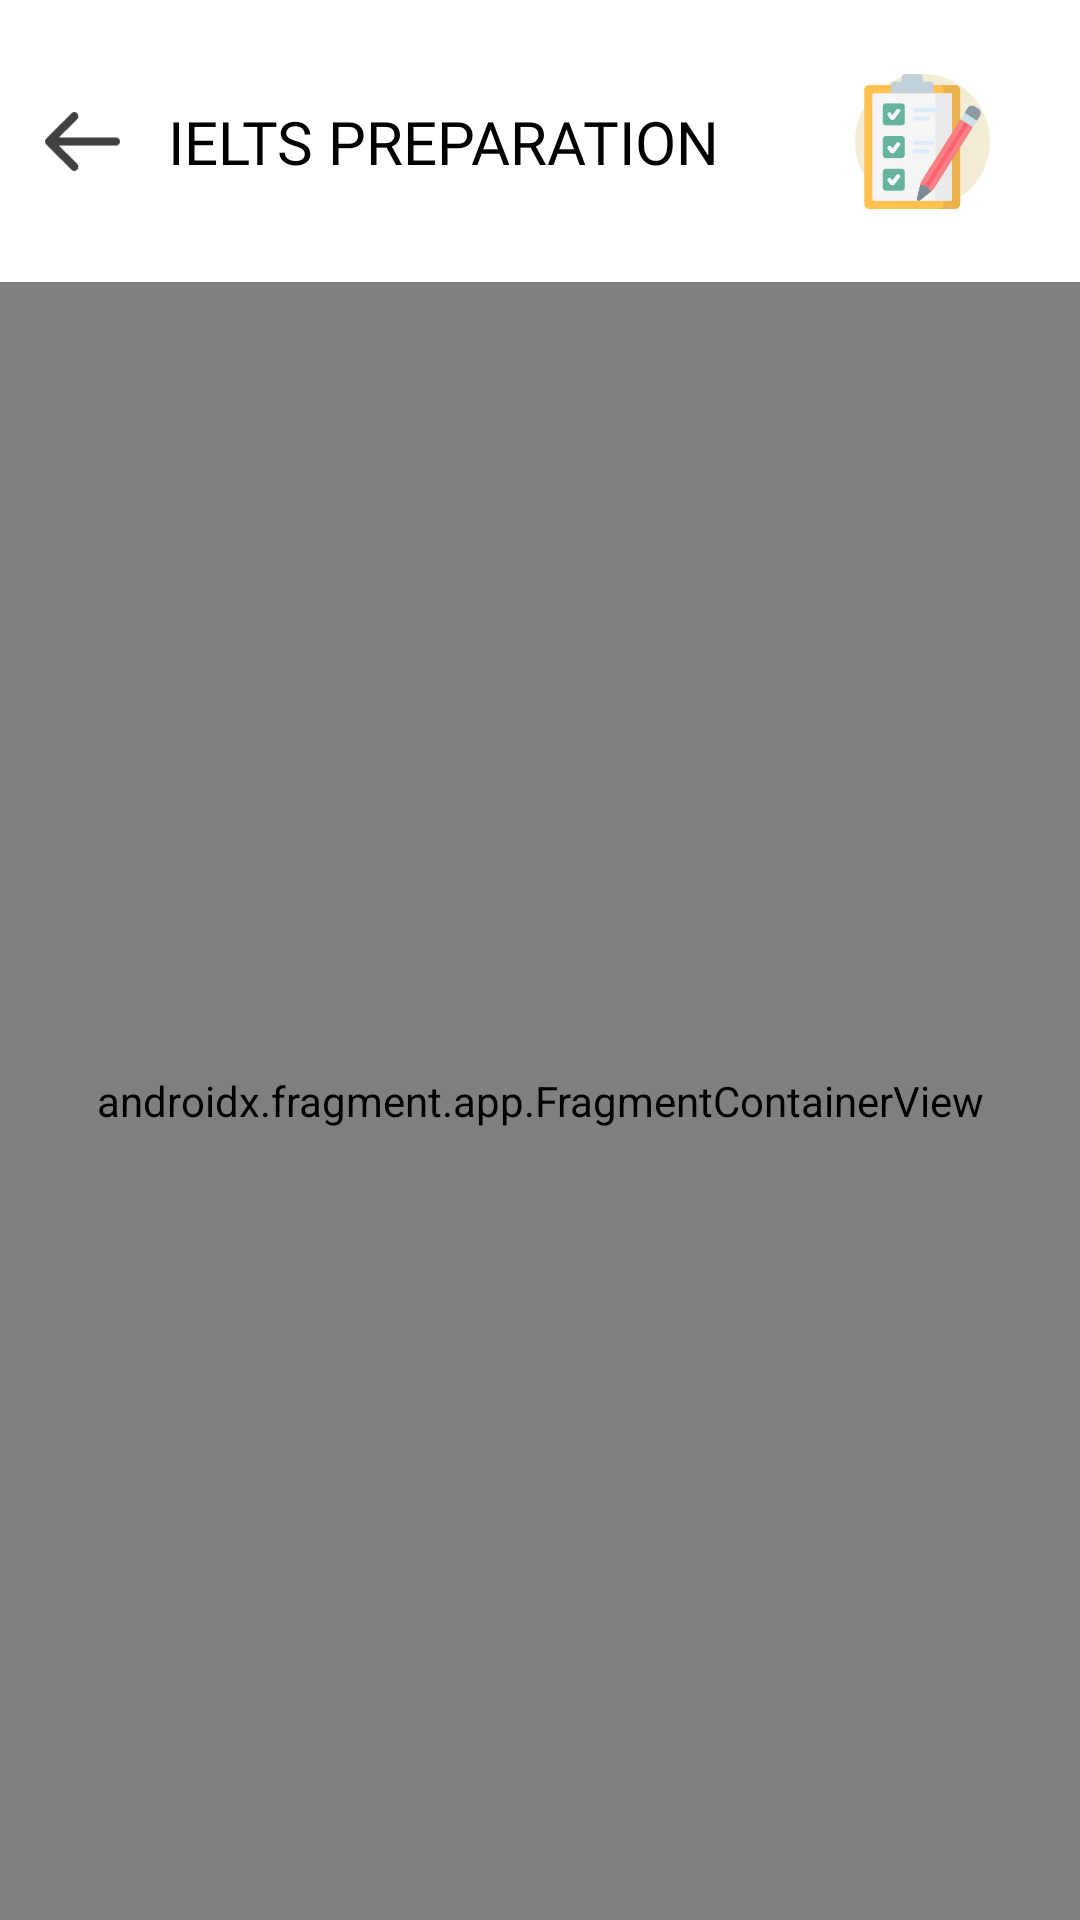

Icons on this 1080w x 1920h Android screen, each with the point to tap as point (x, y):
arrow go back: point (82, 141)
